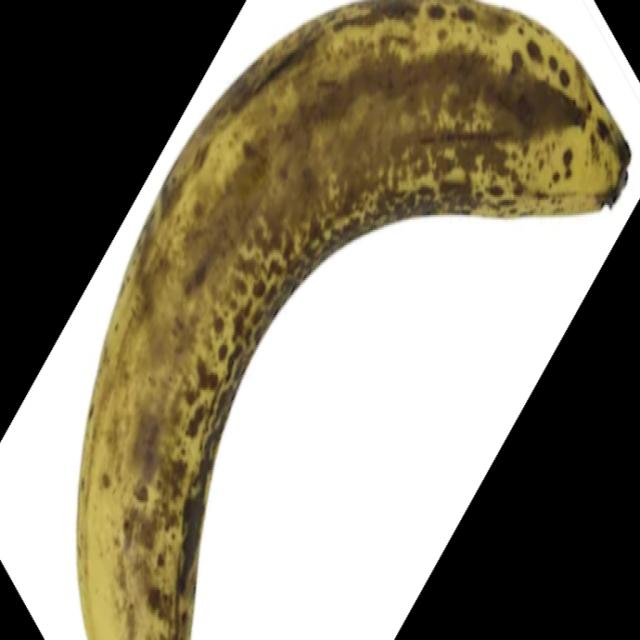overripe: (70, 0, 631, 636)
